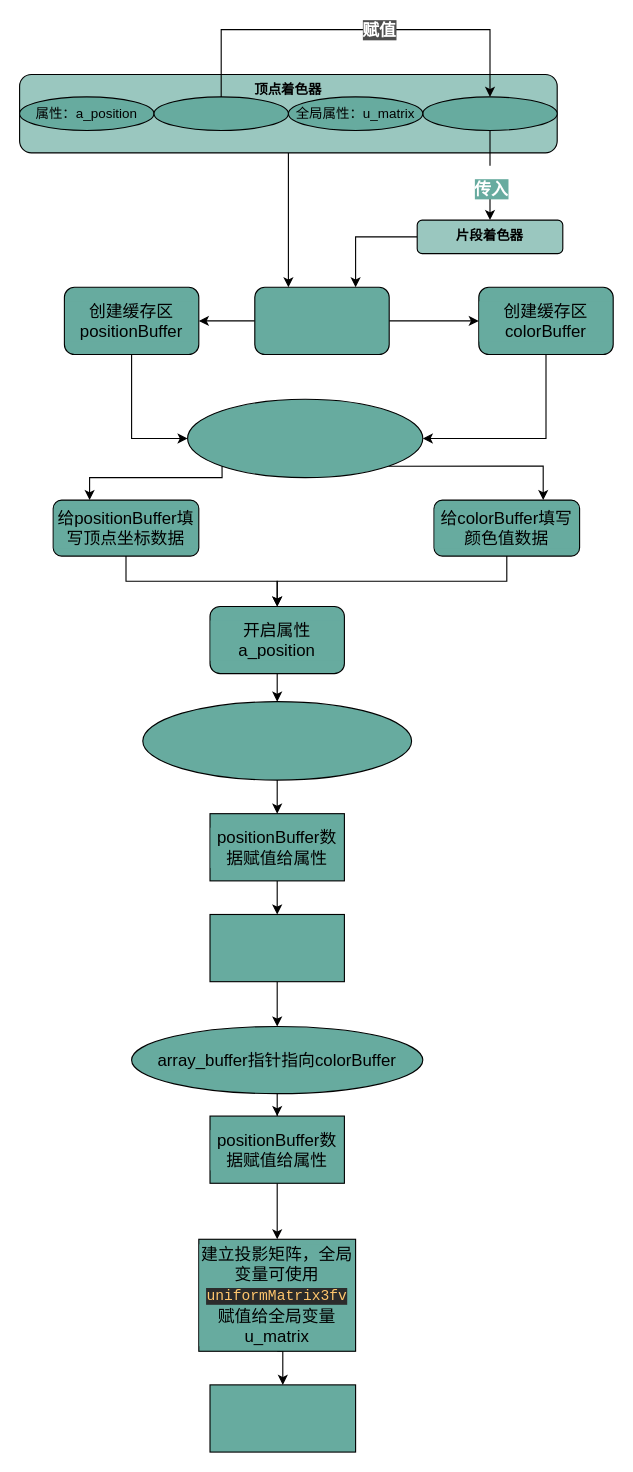
The diagram is 633 pixels wide and 1472 high, and some of its shapes have lost their labels. Each missing label, with the centre of its shape:
"array_buffer当前缓冲区指针" goes at (x=304, y=438).
"array_buffer指针指向positionBuffer" goes at (x=277, y=740).
"可变量：to_f_color" goes at (x=489, y=113).
"属性：a_color" goes at (x=220, y=113).
"开启属性a_color" goes at (x=276, y=947).
"根据程序完成绘制" goes at (x=282, y=1418).
"程序执行" goes at (x=321, y=320).
